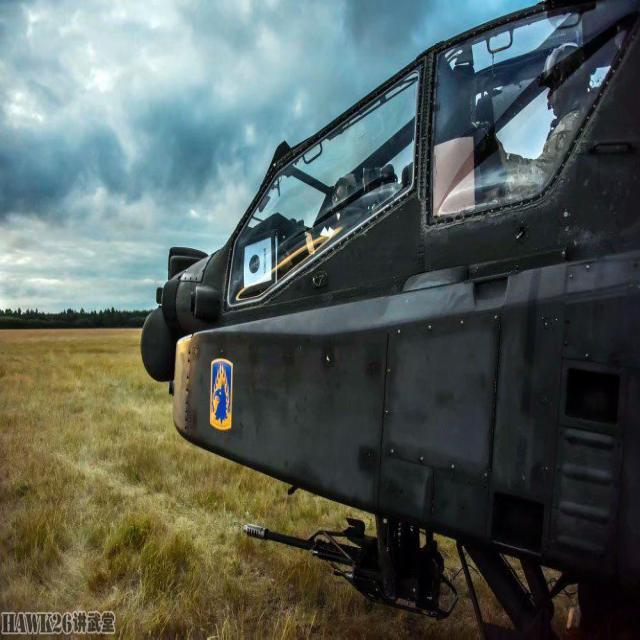MIL_HELO: (126, 0, 640, 626)
